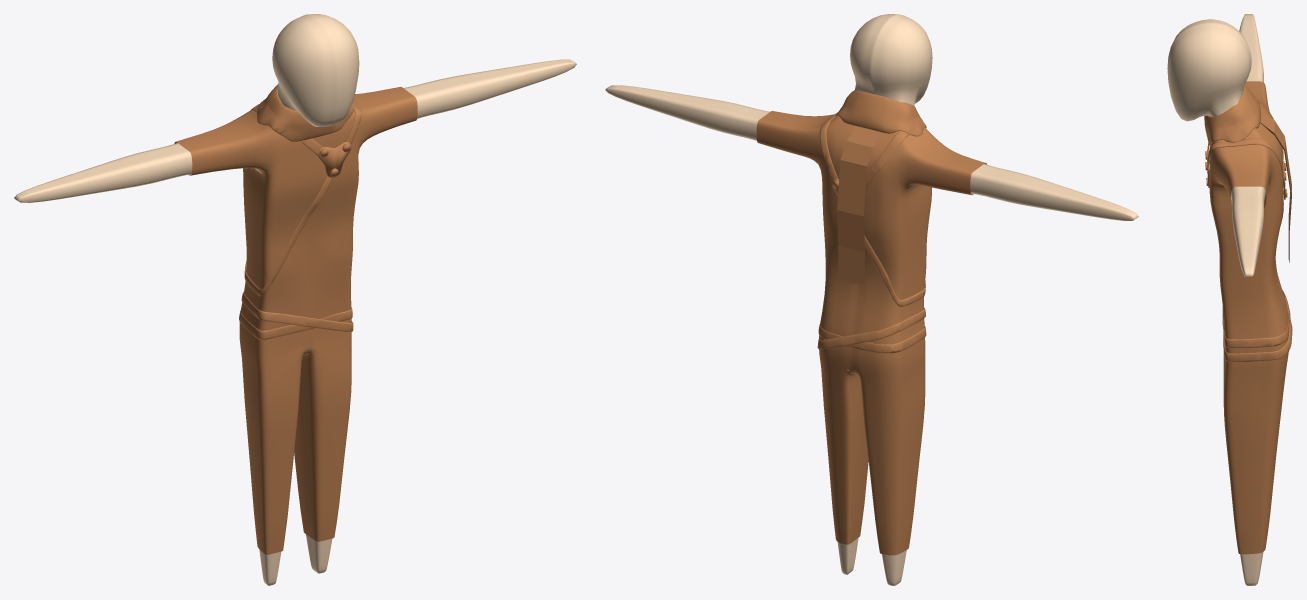
Rendered from ReRiggedGrayCharacter8-7-2019.fbx.
3 renders of one model, left to right at view 1: azimuth 30°, elevation 25°; view 2: azimuth 150°, elevation 25°; view 3: azimuth 270°, elevation 25°, orthographic. The views are drawn at different scales.
Visible parts, largest first — view 1: Pants, Body; view 2: Pants, Body, ScarfTail; view 3: Pants, Body, ScarfTail.
Boxes of the visible parts, <box> form: Pants: <box>174,84,417,554</box>; Body: <box>14,14,576,585</box>; Pants: <box>756,90,986,555</box>; Body: <box>605,14,1138,585</box>; ScarfTail: <box>837,126,880,283</box>; Pants: <box>1204,81,1292,554</box>; Body: <box>1167,14,1265,585</box>; ScarfTail: <box>1260,111,1291,262</box>.
Size of the model in its own units: 1232 by 1211 by 249.
